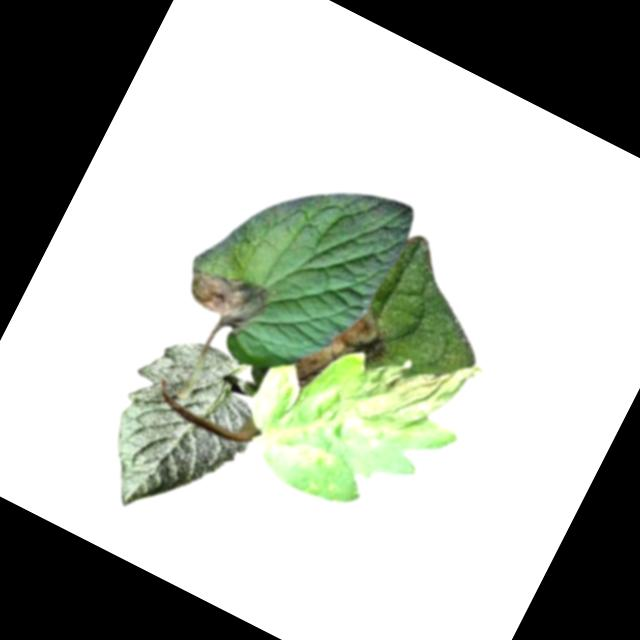Late_blight: (326, 319, 483, 470), (286, 289, 404, 416), (176, 254, 274, 340), (301, 439, 342, 473)
healthy: (79, 319, 284, 544)
